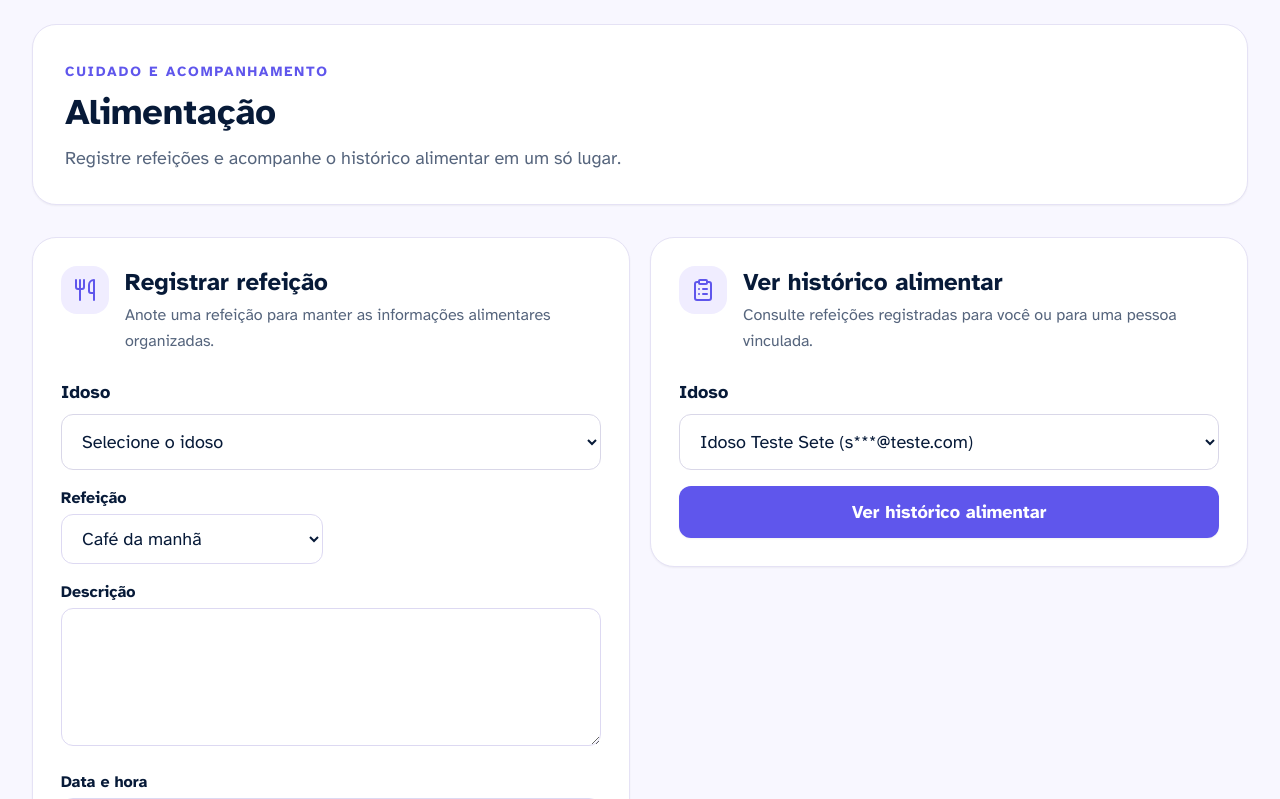
Test: Alimentacao (item 7.1) › idoso escolhido no seletor: POST /alimentacao/idoso/<id>, id só no caminho, nunca no corpo
Select "Idoso Teste Sete (s***@teste.com)" in the 1st dropdown labelled "Idoso": (331, 442) [61,414,601,470]
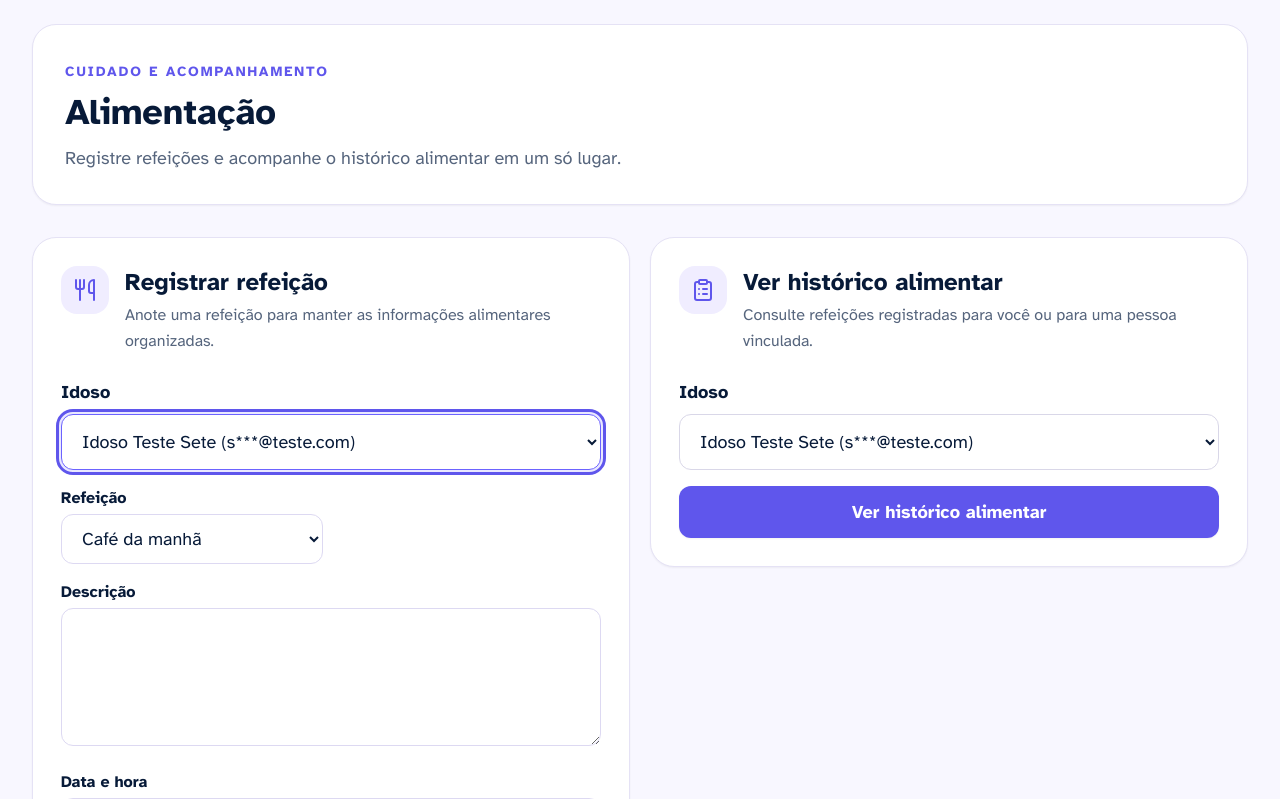
Select "Jantar" in the dropdown labelled "Refeição": (192, 539) [61,514,323,564]
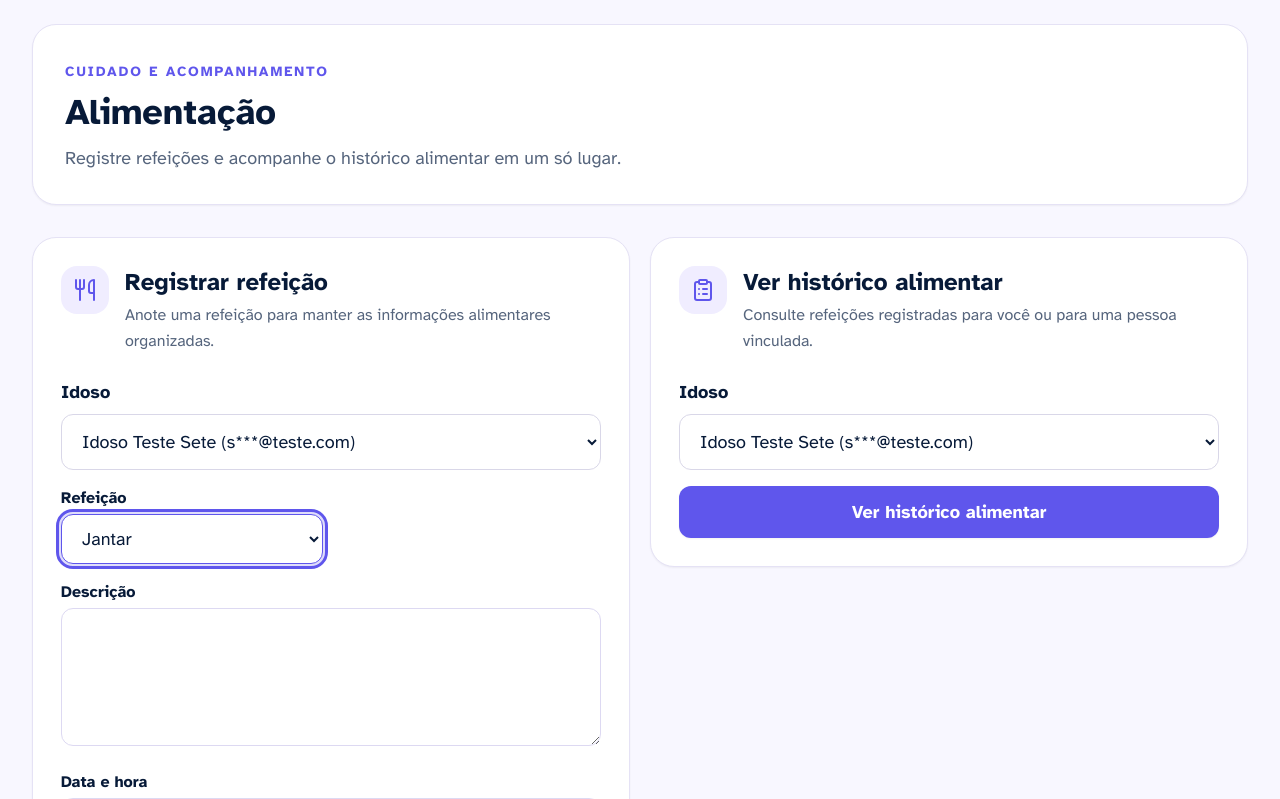
In the text box labelled "Descrição": (331, 677) [61,608,601,746], type "descricao-falsa-sigilosa"
(page scrolled)
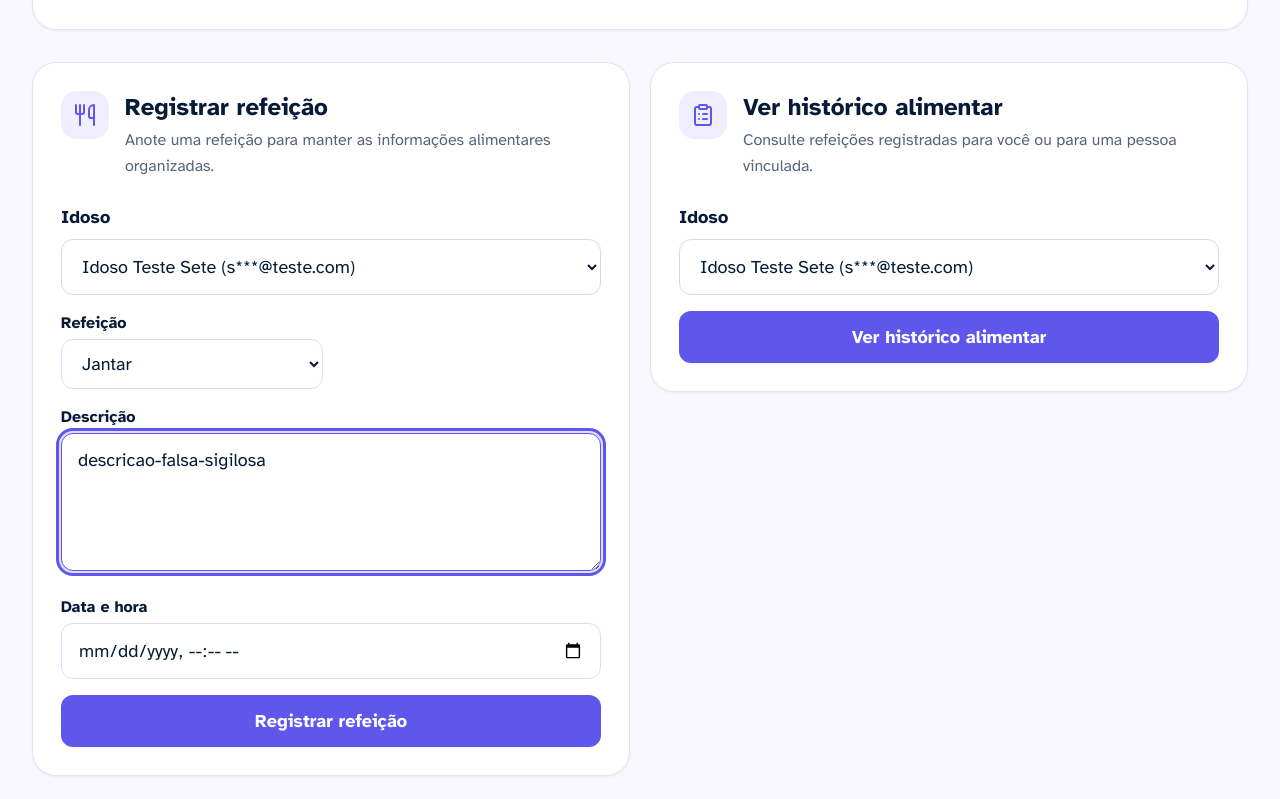
In the field labelled "Data e hora": (331, 651) [61,623,601,679], type "2026-10-10T12:30"
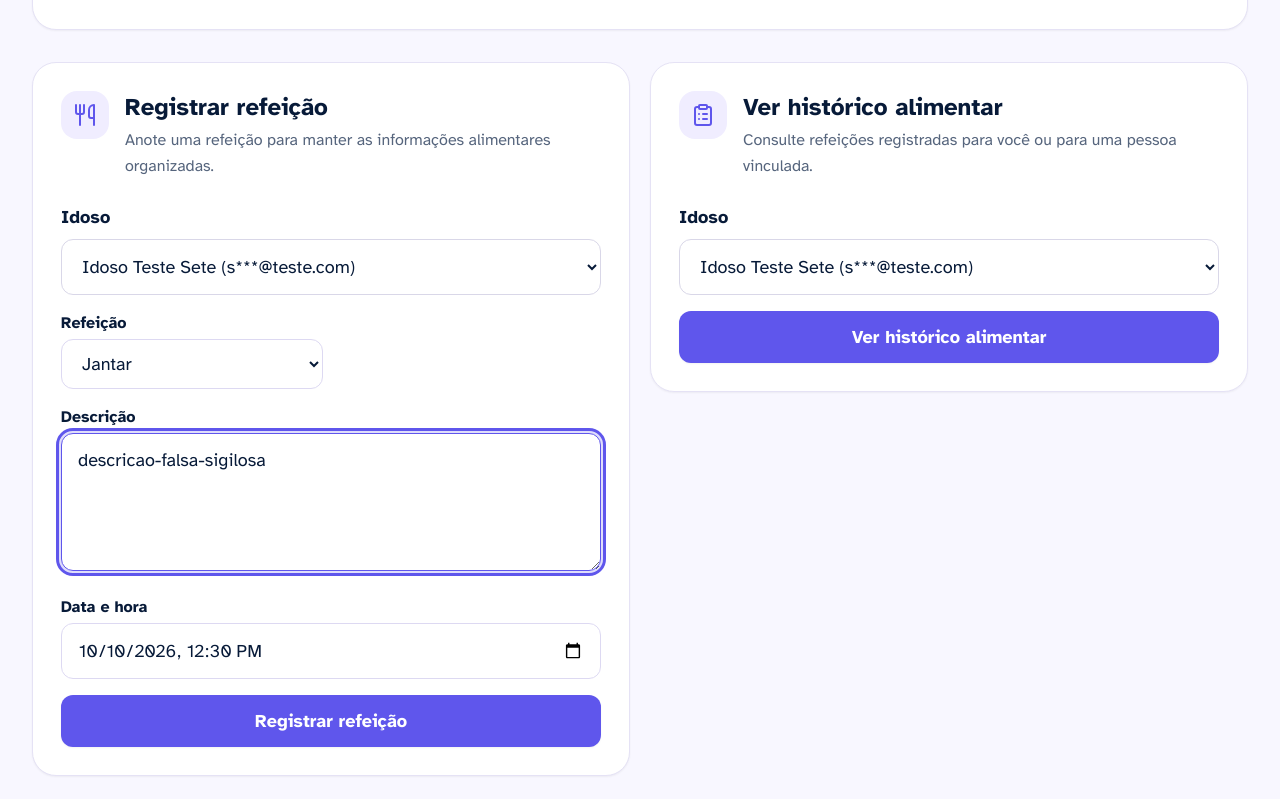
Click the button "Registrar refeição": (331, 721) [61,695,601,747]
(page scrolled)
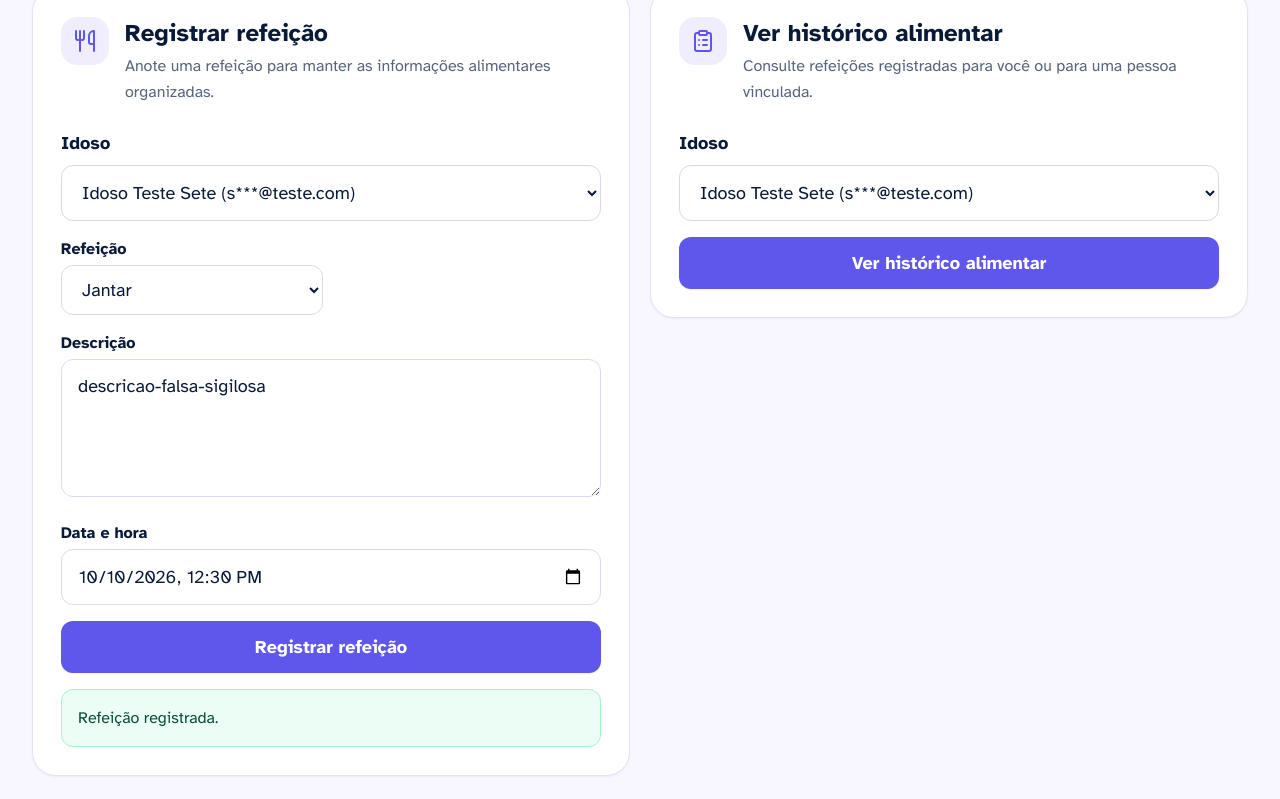
Now the message "Refeição registrada." is shown, box [61,689,601,747]
